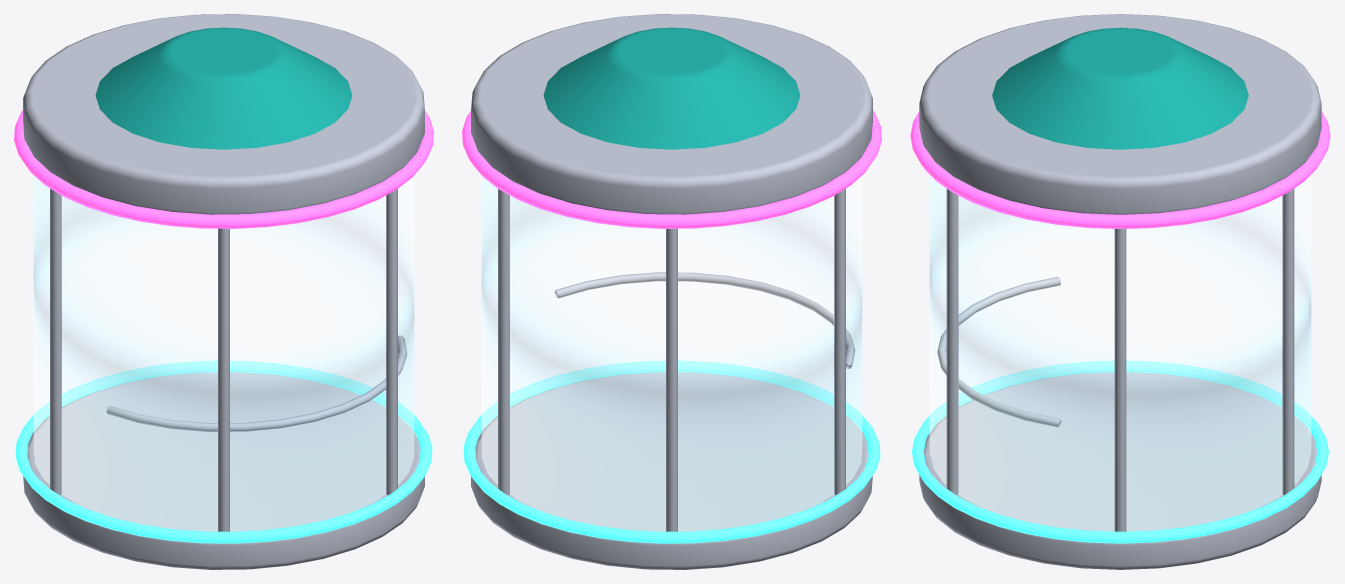
File: mall_elevator_cab.glb
The picture shows the model from 3 angles, left to right: view 1: azimuth 30°, elevation 25°; view 2: azimuth 150°, elevation 25°; view 3: azimuth 270°, elevation 25°; orthographic projection.
Parts seen in each view (by area): view 1: Cab; view 2: Cab; view 3: Cab.
Part boxes in pixels (<box>): Cab: <box>14,14,433,569</box>; Cab: <box>462,14,881,569</box>; Cab: <box>910,14,1330,569</box>.
Bounding box in the file's own units: 2.82 × 3.23 × 2.82.
